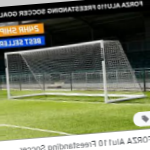goals: (4, 39, 150, 105)
